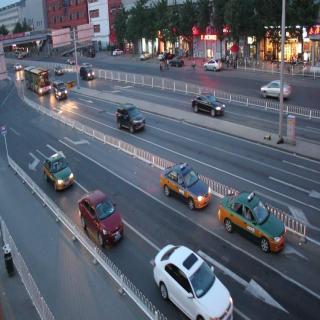BigCar: (22, 66, 54, 102)
Car: (147, 247, 236, 320), (224, 195, 289, 257), (154, 159, 205, 217), (72, 190, 122, 246), (192, 87, 229, 129), (48, 156, 74, 192), (263, 76, 297, 101), (123, 106, 146, 132), (202, 56, 226, 78)
